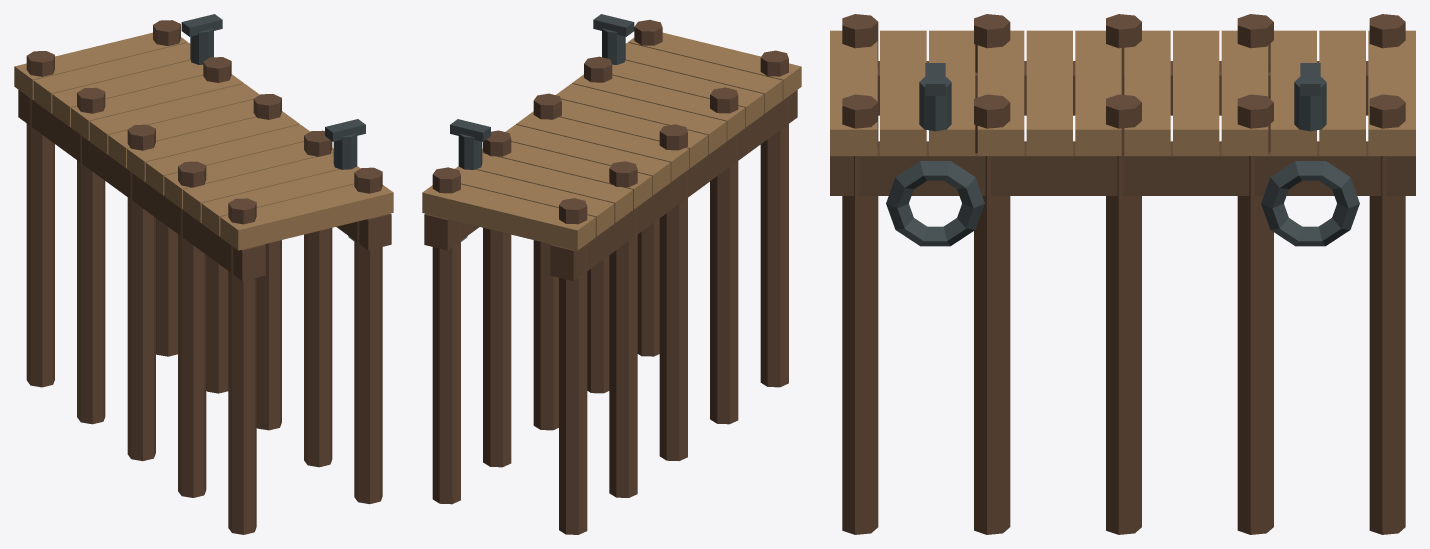
File: pier.glb
3 renders of one model, left to right at view 1: azimuth 30°, elevation 25°; view 2: azimuth 150°, elevation 25°; view 3: azimuth 270°, elevation 25°, orthographic. The views are drawn at different scales.
Visible parts, largest first — view 1: WoodDark, Wood, Metal; view 2: WoodDark, Wood, Metal; view 3: WoodDark, Wood, Metal.
Part boxes in pixels (bbox=[...]): WoodDark: bbox=[18, 20, 391, 534]; Wood: bbox=[14, 32, 393, 250]; Metal: bbox=[181, 14, 365, 240]; WoodDark: bbox=[424, 19, 797, 534]; Wood: bbox=[422, 32, 801, 250]; Metal: bbox=[450, 14, 634, 241]; WoodDark: bbox=[830, 14, 1415, 534]; Wood: bbox=[830, 30, 1415, 155]; Metal: bbox=[886, 63, 1359, 246].
Size of the model in its own units: 0.879 by 1.72 by 2.
